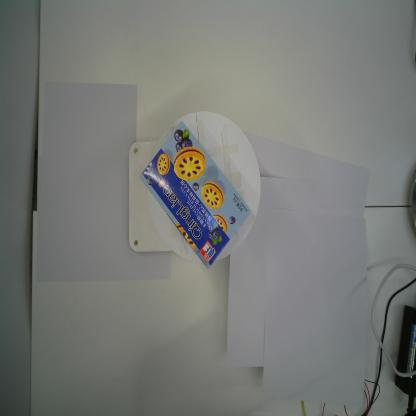Dessert: (138, 120, 250, 270)
